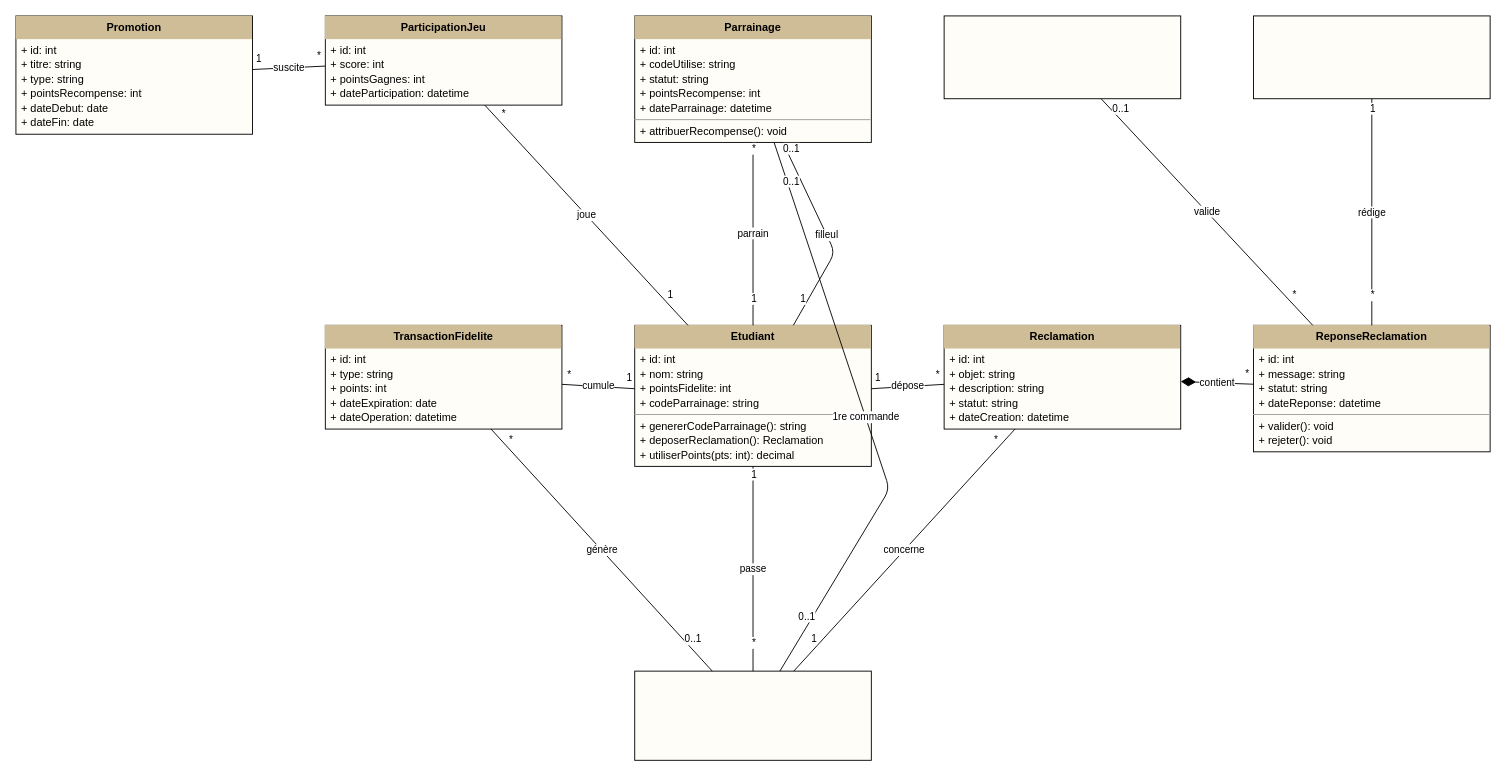
Some shapes in this 1506 by 776 pixel diagram are drawn without their labels. Here are the shapes that lost their labels. From the top down, the centre of each, then its label:
At point 1062,57: "Gerant + id: int + nom: string + validerReponse(id: int, ok: bool): void".
At point 1371,57: "Employe + id: int + nom: string + repondreReclamation(id: int): void".
At point 752,715: "Commande + id: int + total: decimal + statut: string + pointsGagnes: int".
